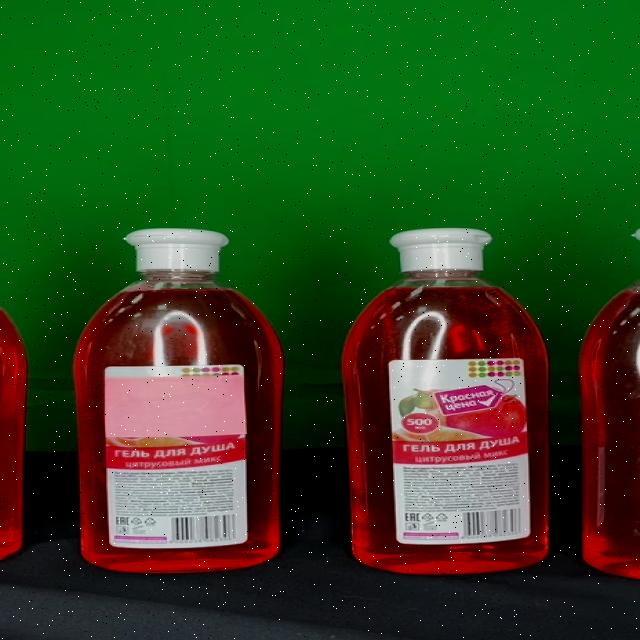Bottle: (72, 229, 285, 573), (342, 228, 548, 575)
Cap: (122, 228, 227, 272), (388, 228, 492, 270)
